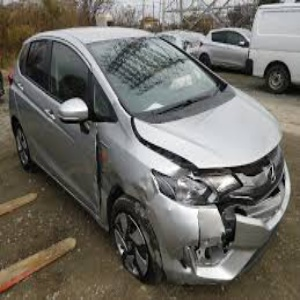bumper: (154, 204, 267, 286)
door: (78, 129, 111, 233)
